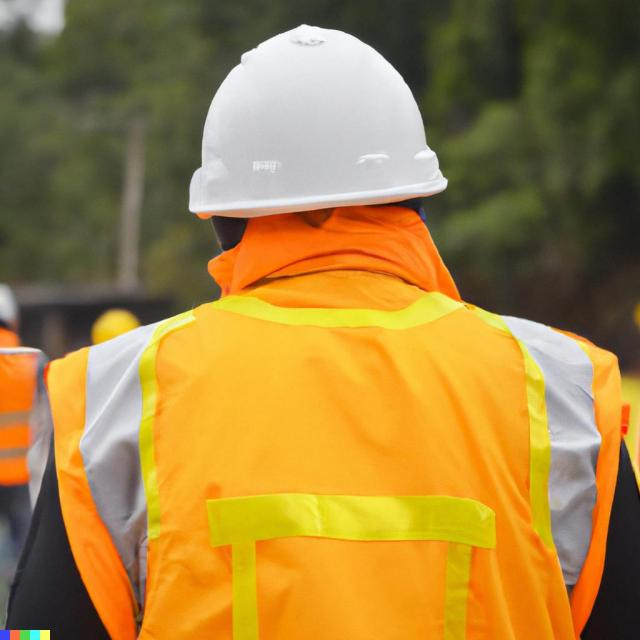Reflective-Jacket: (18, 270, 640, 636), (0, 328, 42, 490)
Safety-Helmet: (185, 28, 451, 218)
